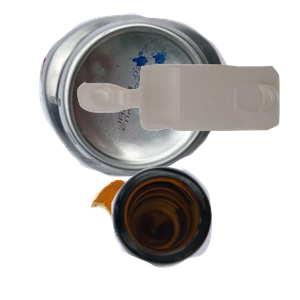glass: (109, 164, 300, 300)
metal: (37, 11, 261, 180)
plastic: (75, 62, 300, 186)
trash: (88, 177, 251, 300)
